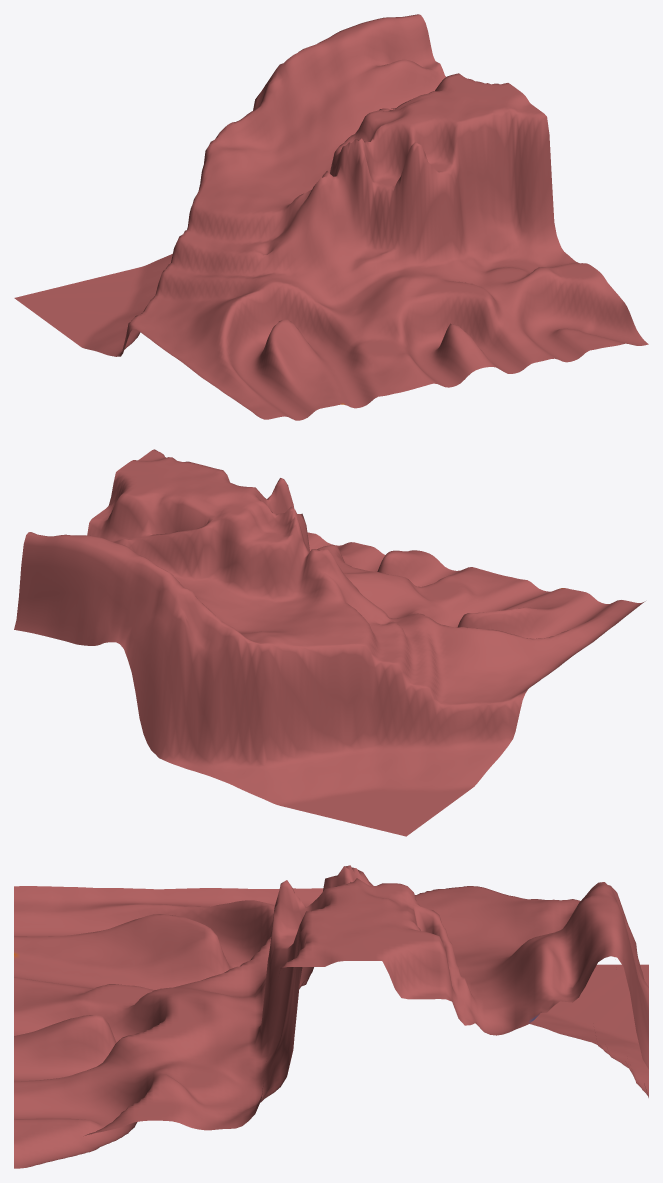
Rendered from terreno_so.glb.
3 views of the same model, one above another, from view 1: azimuth 30°, elevation 25°; view 2: azimuth 150°, elevation 25°; view 3: azimuth 270°, elevation 25° (orthographic). The views are drawn at different scales.
Parts seen in each view (by area): view 1: terreno_so; view 2: terreno_so; view 3: terreno_so.
Boxes of the visible parts, x1=… form: terreno_so: x1=14, y1=14, x2=648, y2=420; terreno_so: x1=14, y1=449, x2=645, y2=836; terreno_so: x1=14, y1=865, x2=648, y2=1168.
Bounding box in the file's own units: 228 × 114 × 245.
